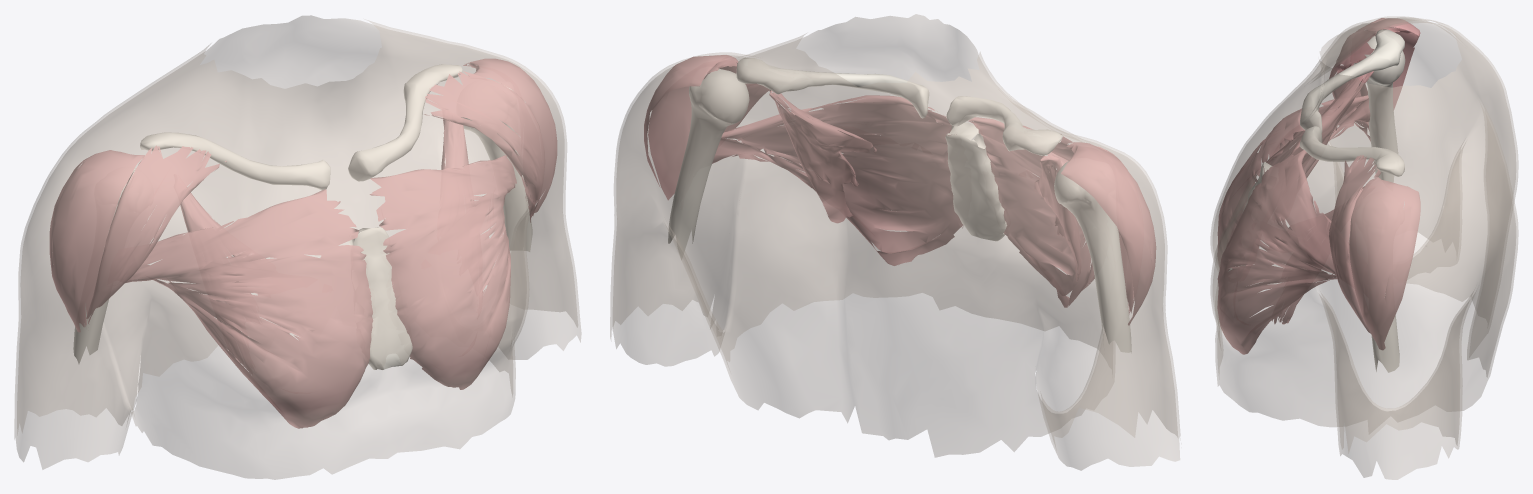
Rendered from upper_torso.glb.
The picture shows the model from 3 angles, left to right: view 1: azimuth 30°, elevation 25°; view 2: azimuth 150°, elevation 25°; view 3: azimuth 270°, elevation 25°; orthographic projection. The views are drawn at different scales.
Parts seen in each view (by area): view 1: skin, pec_major_r, pec_major_l, deltoid_r2, deltoid_r, deltoid_l, sternum, clav_r, clav_l, deltoid_l2, hum_l, hum_r (+2 smaller); view 2: skin, pec_major_l, pec_major_r, deltoid_r2, hum_l, hum_r, deltoid_l2, pec_minor_l, sternum, clav_l, clav_r, pec_minor_r; view 3: skin, pec_major_l, deltoid_l2, pec_major_r, deltoid_l, clav_r, hum_r, clav_l, pec_minor_r, deltoid_r2, deltoid_r, hum_l (+1 smaller).
Part boxes in pixels (x1=…): skin: x1=14, y1=15, x2=581, y2=479; pec_major_r: x1=125, y1=189, x2=373, y2=428; pec_major_l: x1=370, y1=155, x2=516, y2=389; deltoid_r2: x1=49, y1=150, x2=144, y2=332; deltoid_r: x1=86, y1=145, x2=226, y2=323; deltoid_l: x1=424, y1=71, x2=545, y2=222; sternum: x1=348, y1=226, x2=412, y2=369; clav_r: x1=140, y1=132, x2=330, y2=190; clav_l: x1=348, y1=64, x2=462, y2=181; deltoid_l2: x1=463, y1=58, x2=557, y2=217; hum_l: x1=461, y1=81, x2=532, y2=251; hum_r: x1=73, y1=168, x2=135, y2=363; skin: x1=610, y1=14, x2=1180, y2=470; pec_major_l: x1=712, y1=95, x2=963, y2=265; pec_major_r: x1=968, y1=117, x2=1094, y2=307; deltoid_r2: x1=1061, y1=142, x2=1156, y2=325; hum_l: x1=668, y1=68, x2=749, y2=259; hum_r: x1=1054, y1=161, x2=1131, y2=354; deltoid_l2: x1=644, y1=55, x2=738, y2=200; pec_minor_l: x1=769, y1=90, x2=876, y2=223; sternum: x1=945, y1=122, x2=1007, y2=241; clav_l: x1=736, y1=58, x2=929, y2=118; clav_r: x1=946, y1=96, x2=1062, y2=155; pec_minor_r: x1=1034, y1=155, x2=1081, y2=281; skin: x1=1210, y1=16, x2=1518, y2=479; pec_major_l: x1=1217, y1=150, x2=1348, y2=354; deltoid_l2: x1=1349, y1=176, x2=1420, y2=350; pec_major_r: x1=1217, y1=95, x2=1370, y2=266; deltoid_l: x1=1329, y1=155, x2=1380, y2=333; clav_r: x1=1300, y1=29, x2=1404, y2=133; hum_r: x1=1353, y1=35, x2=1405, y2=182; clav_l: x1=1299, y1=126, x2=1404, y2=176; pec_minor_r: x1=1279, y1=71, x2=1373, y2=220; deltoid_r2: x1=1356, y1=18, x2=1420, y2=126; deltoid_r: x1=1329, y1=30, x2=1375, y2=141; hum_l: x1=1371, y1=209, x2=1403, y2=372.
Size of the model in its own units: 0.5047 by 0.3139 by 0.2708.
